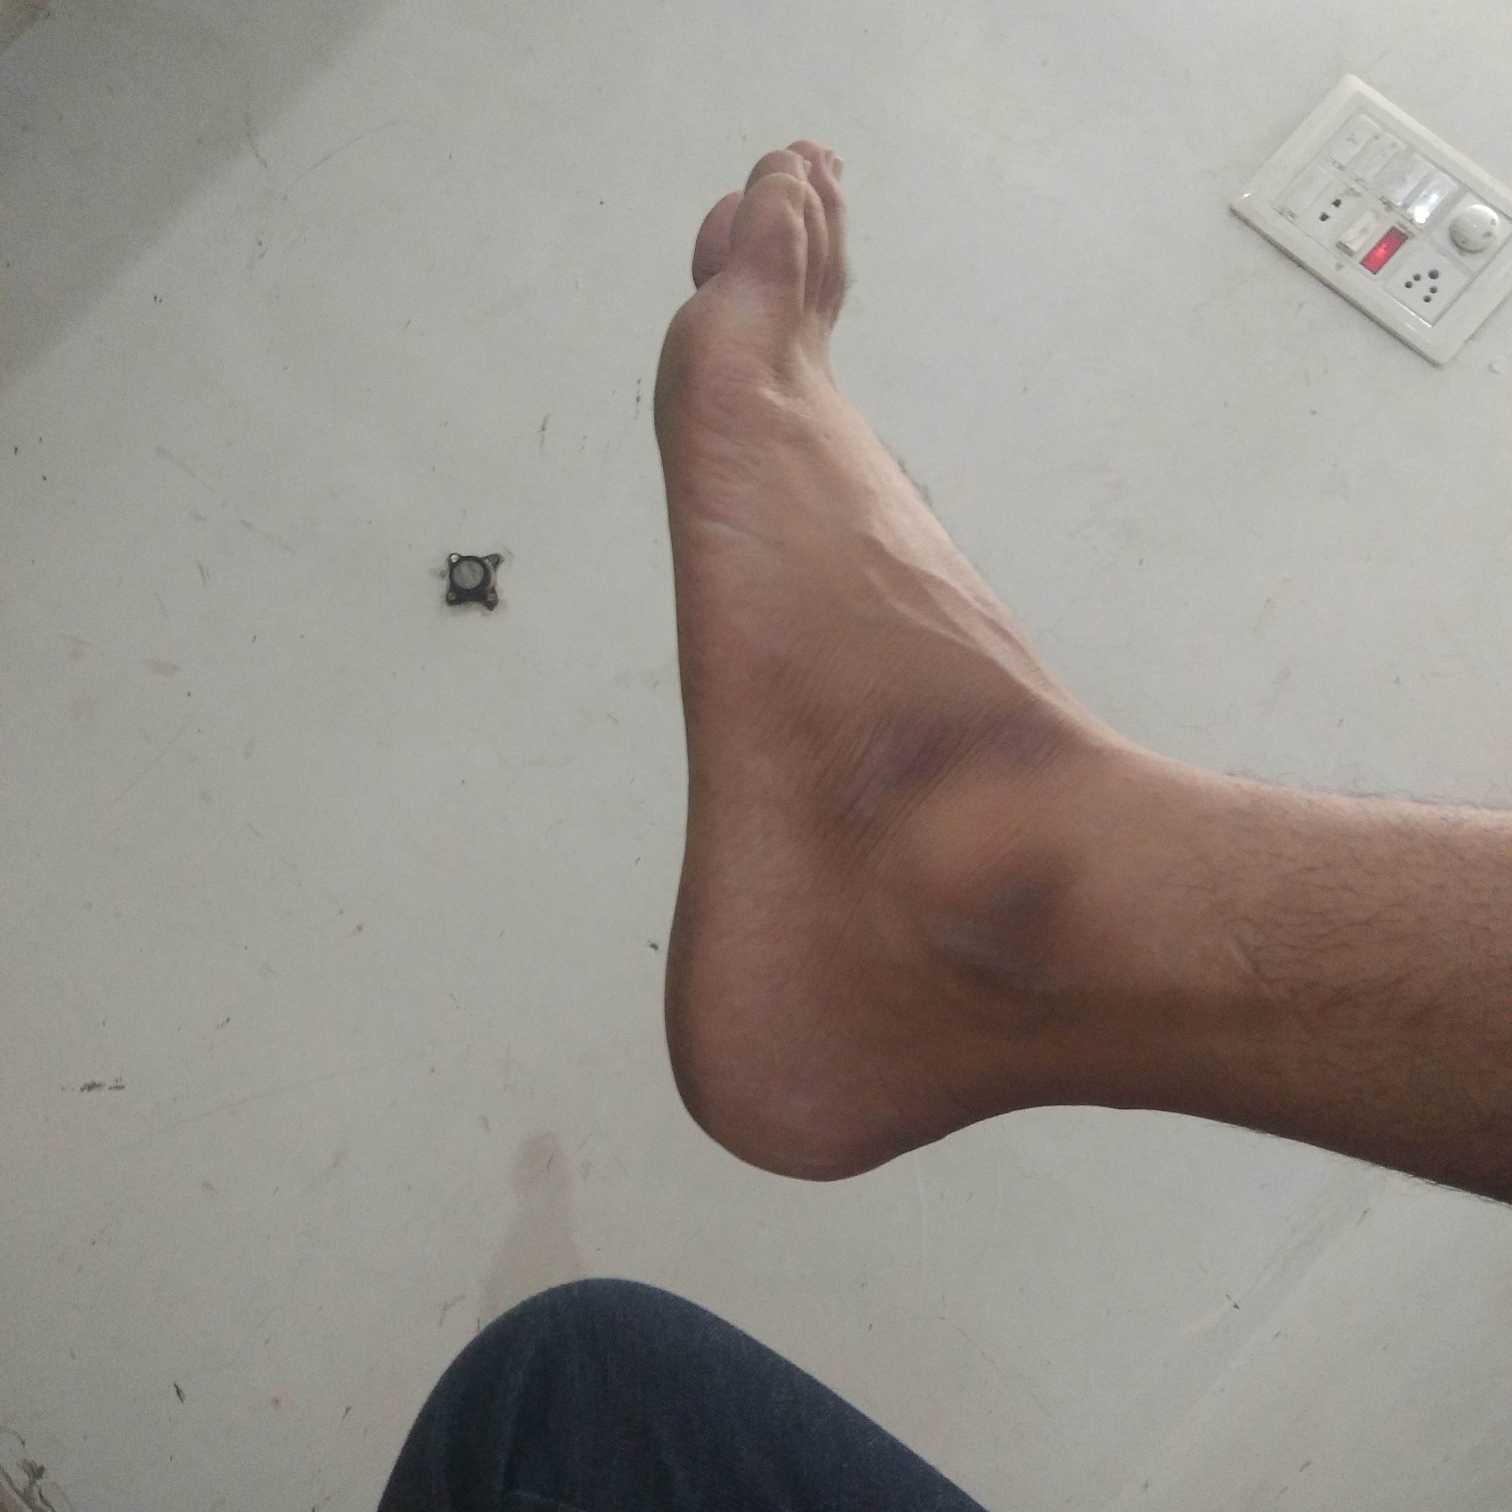foot: (649, 127, 1066, 1187)
